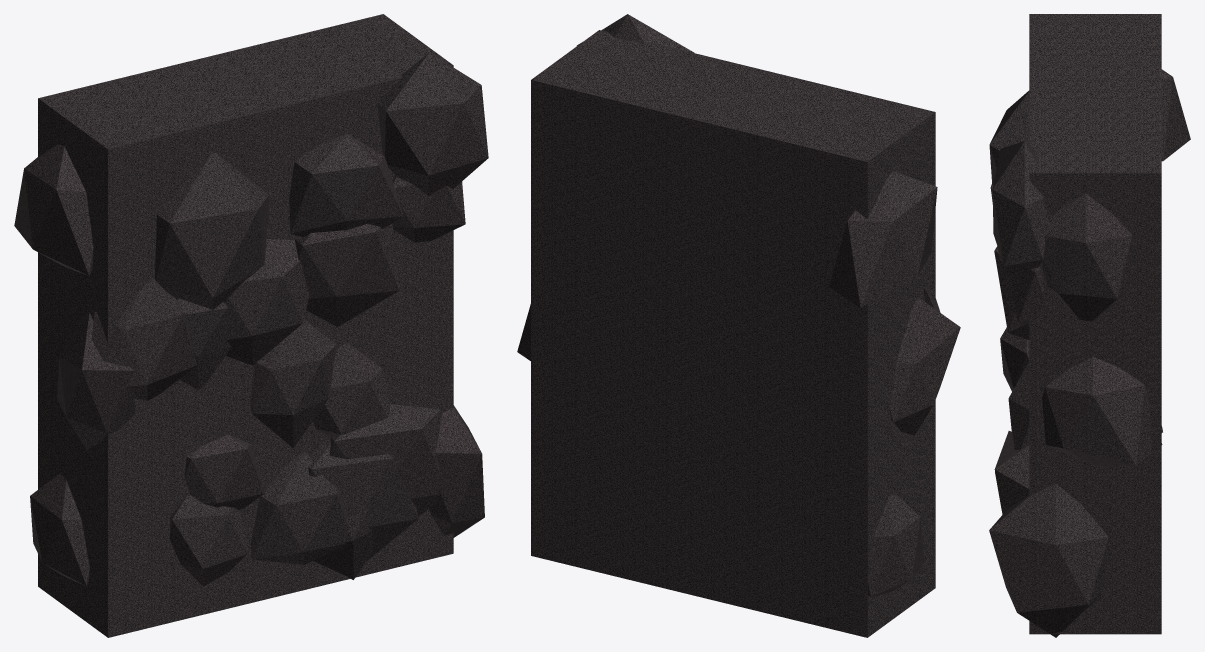
File: cave_chimney_basalt.glb
3 views of the same model, side by side, from view 1: azimuth 30°, elevation 25°; view 2: azimuth 150°, elevation 25°; view 3: azimuth 270°, elevation 25° (orthographic). The views are drawn at different scales.
Visible parts, largest first — view 1: Body.003; view 2: Body.003; view 3: Body.003.
Part boxes in pixels (bbox=[...]): Body.003: bbox=[14, 14, 488, 637]; Body.003: bbox=[517, 14, 960, 637]; Body.003: bbox=[989, 14, 1190, 637].
Size of the model in its own units: 8.63 by 10.56 by 3.97.
1 material, 1 textured.
